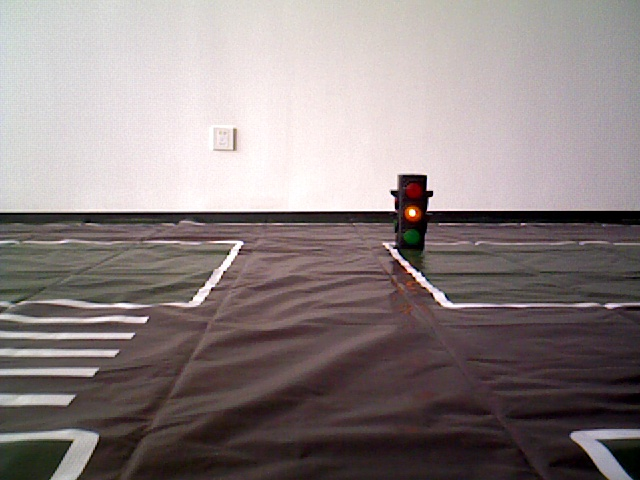yellow: (391, 167, 429, 256)
